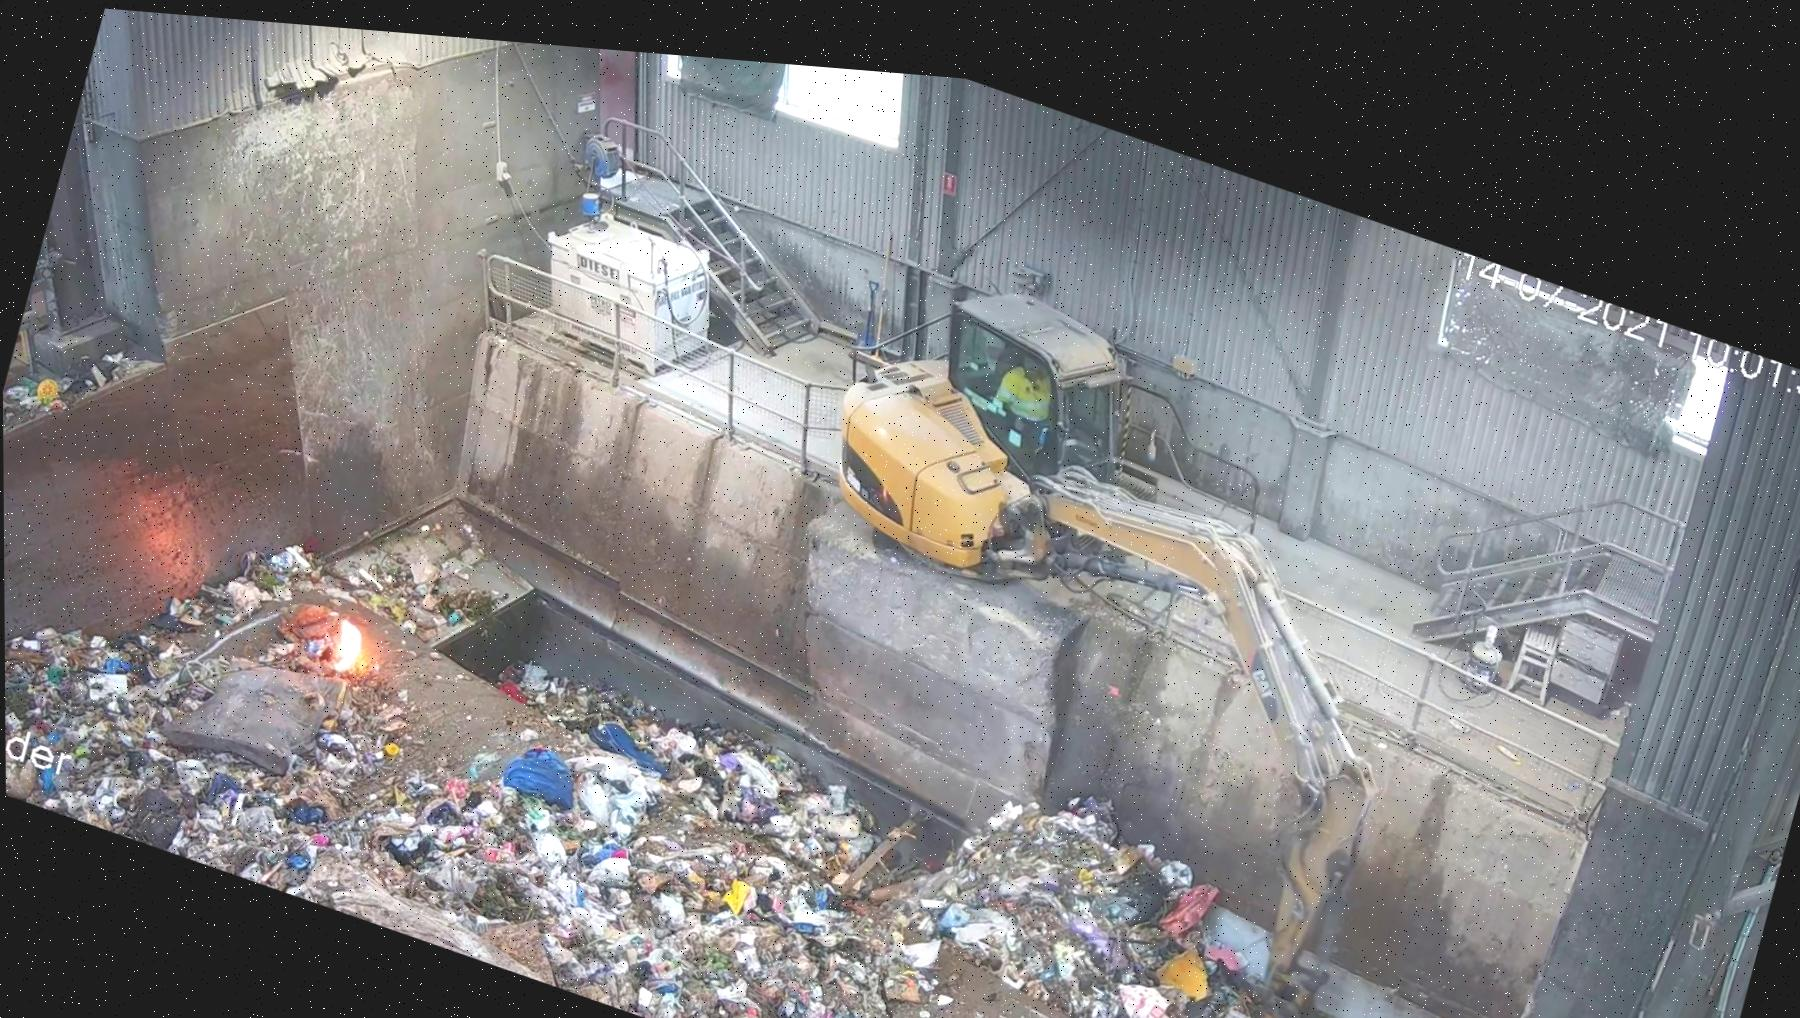fire: (1, 414, 491, 787)
